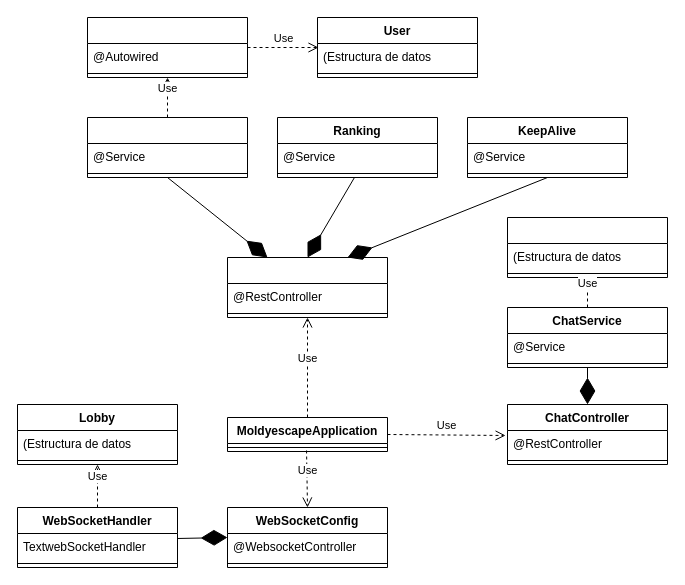
Image size: 685x585. Some labels were removed from this diagram. The shapes that lost their labels are listed below. From the top down, each one's box as (x1, y1, x2, y2) in pixels, then its label:
(86, 16, 248, 78): UserDao
(86, 116, 248, 178): UserService
(506, 216, 668, 278): Chat
(226, 256, 388, 318): UserController
